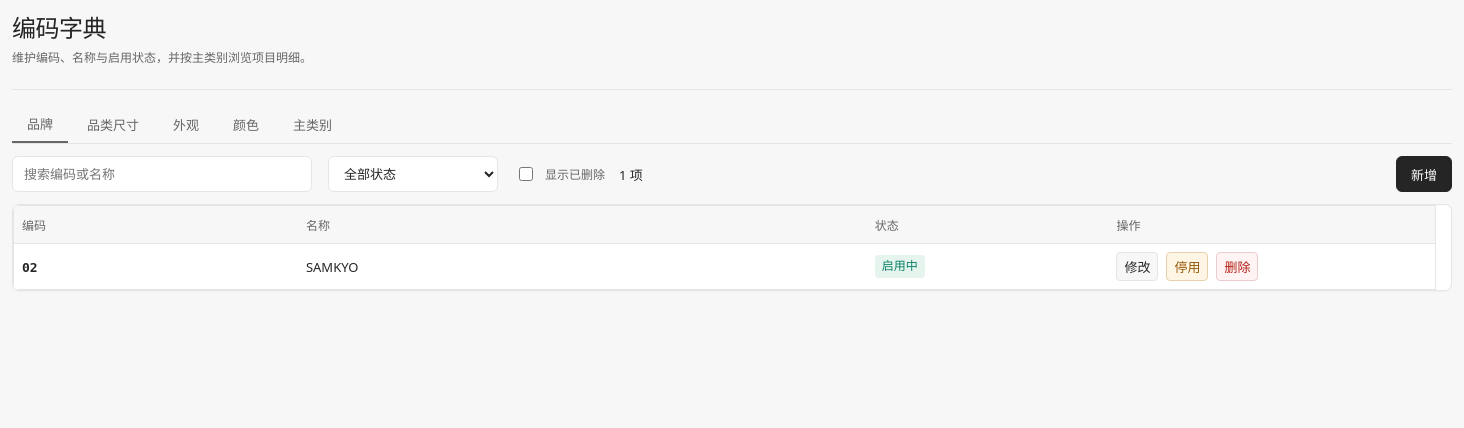
DictionariesPage › renames an unreferenced dictionary item through the API
Expected: the text "SAMKYO" is shown, top-left (298, 244), bottom-right (867, 290)
Click the button with aria-label "修改 SAMKYO" at (1137, 266), box top-left (1116, 252), bottom-right (1158, 281)
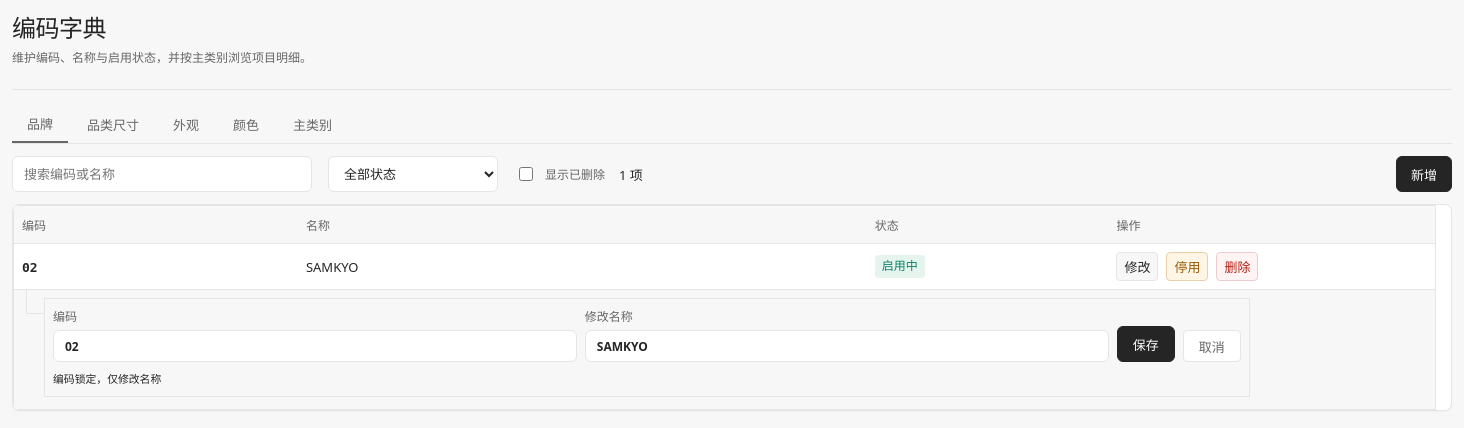
Expected: the field labelled "编码" holds "02", top-left (53, 330), bottom-right (577, 362)
Expected: the field labelled "编码" is disabled, top-left (53, 330), bottom-right (577, 362)
Replace the text in the field labelled "修改名称" with "SAMKYO 新名称" at (847, 346), box top-left (585, 330), bottom-right (1109, 362)
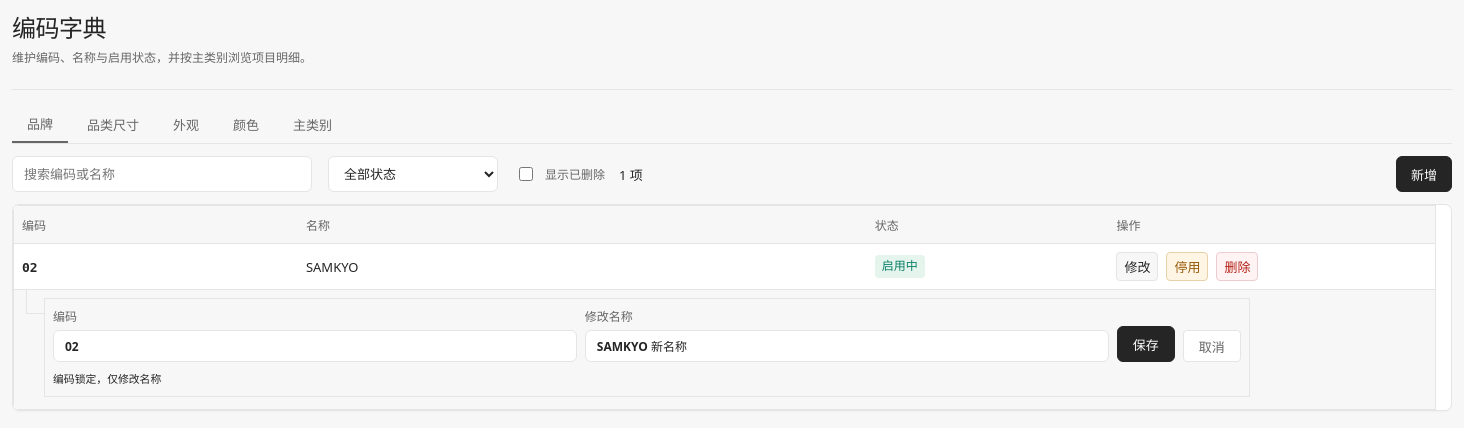
Click the button "保存" at (1146, 344), box top-left (1117, 326), bottom-right (1175, 362)
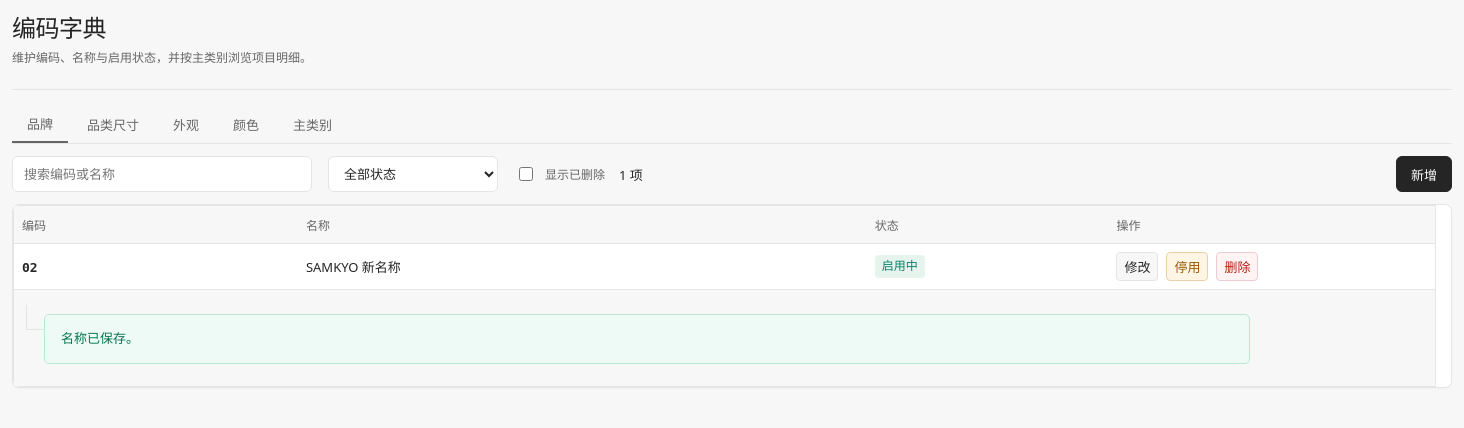
Expected: the text "SAMKYO 新名称" is shown, top-left (298, 244), bottom-right (867, 290)
